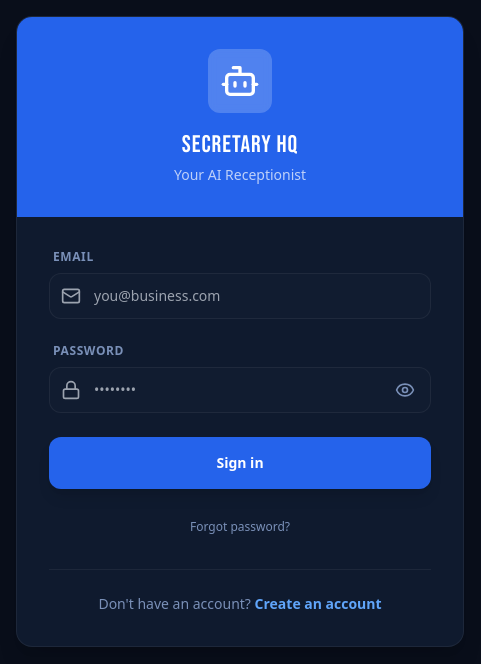
Test: LoginView copy › HAPPY: loading label is "Signing in...", not "Verifying..."
The width and height of the screenshot is (481, 664).
Type "a@b.com" into the field labelled "Email" at [240, 296], box left=49, top=272, right=431, bottom=318
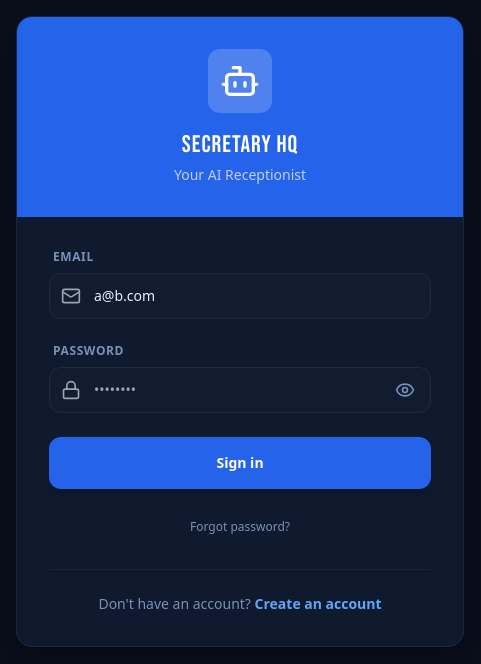
Type "pw" into the password field labelled "Password" at [240, 390], box left=49, top=366, right=431, bottom=412
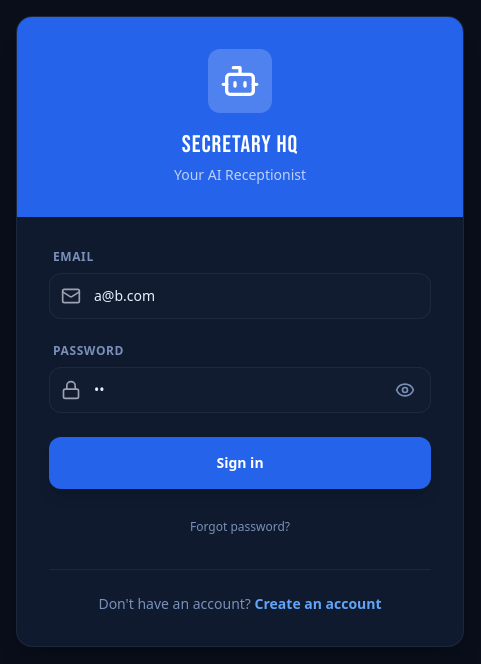
Click the button "Sign in" at [240, 462], box left=49, top=436, right=431, bottom=488
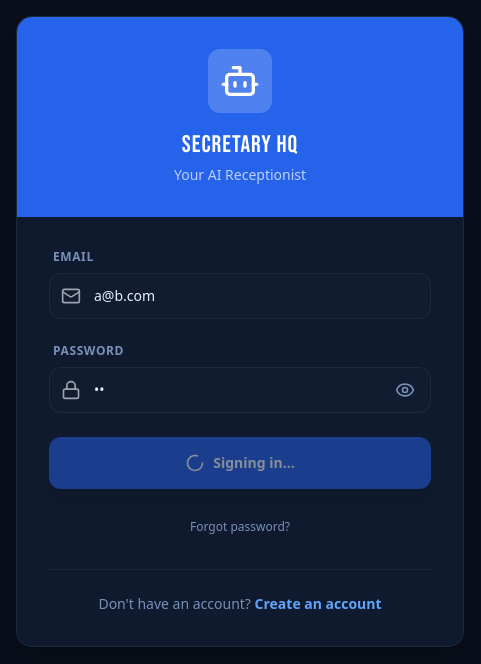
Check: the button "Signing in..." is shown, box left=49, top=436, right=431, bottom=488
